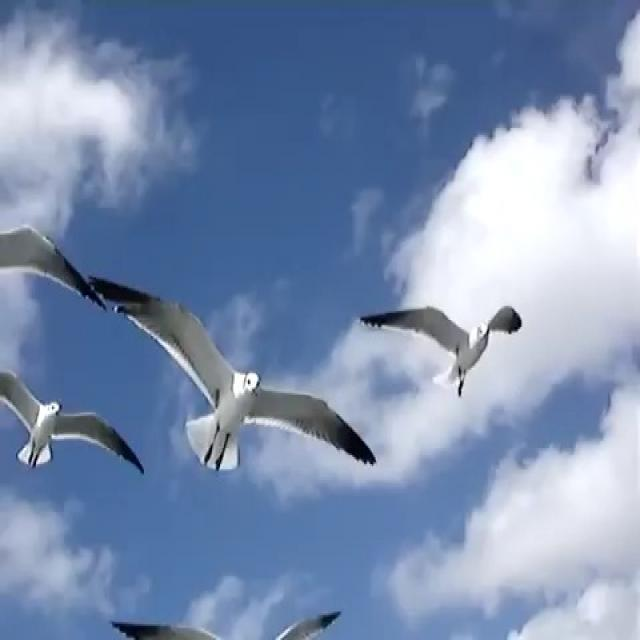bird: (90, 277, 375, 478), (361, 297, 524, 392), (0, 374, 147, 473)
